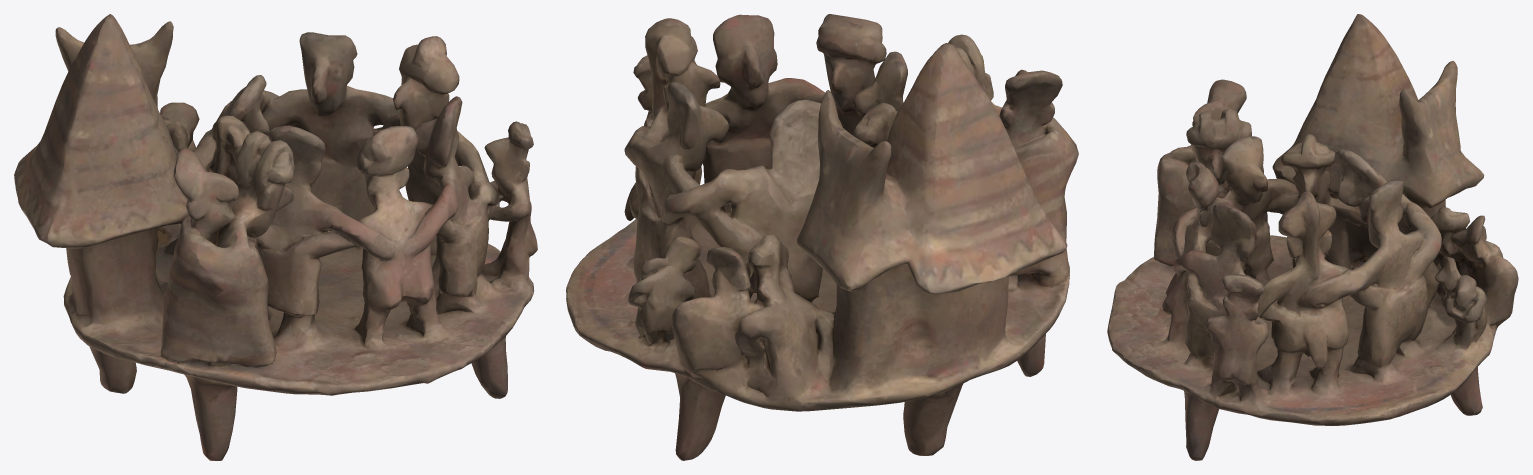
Rendered from preview.glb.
The picture shows the model from 3 angles, left to right: view 1: azimuth 30°, elevation 25°; view 2: azimuth 150°, elevation 25°; view 3: azimuth 270°, elevation 25°; orthographic projection. The views are drawn at different scales.
Parts seen in each view (by area): view 1: ADVIMG_1995_63_4_VillageScene_10M_n3d; view 2: ADVIMG_1995_63_4_VillageScene_10M_n3d; view 3: ADVIMG_1995_63_4_VillageScene_10M_n3d.
Part boxes in pixels (left/top/right/bottom): ADVIMG_1995_63_4_VillageScene_10M_n3d: left=14, top=14, right=537, bottom=460; ADVIMG_1995_63_4_VillageScene_10M_n3d: left=566, top=14, right=1078, bottom=460; ADVIMG_1995_63_4_VillageScene_10M_n3d: left=1107, top=14, right=1518, bottom=460.
Bounding box in the file's own units: 0.1944 × 0.1584 × 0.181.
1 material, 1 textured.
